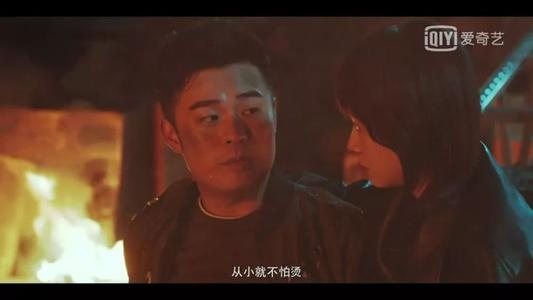fire: (22, 167, 130, 285)
